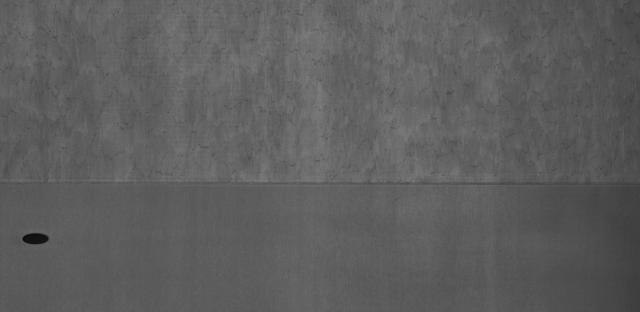punching_hole: (18, 229, 53, 250)
silk_spot: (9, 10, 614, 170)
welding_line: (1, 173, 636, 193)
